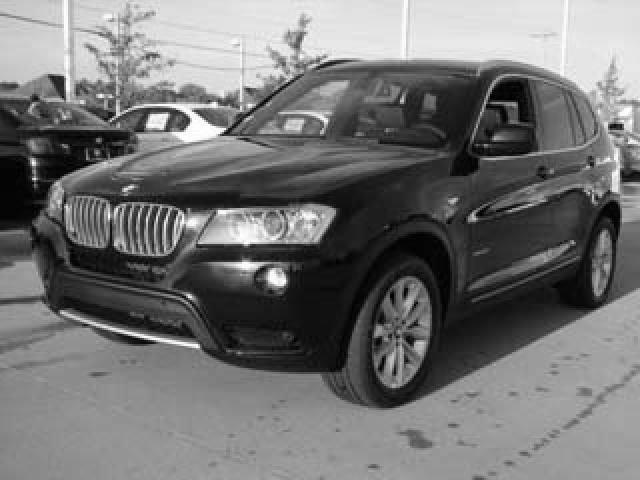car: (32, 60, 626, 410)
